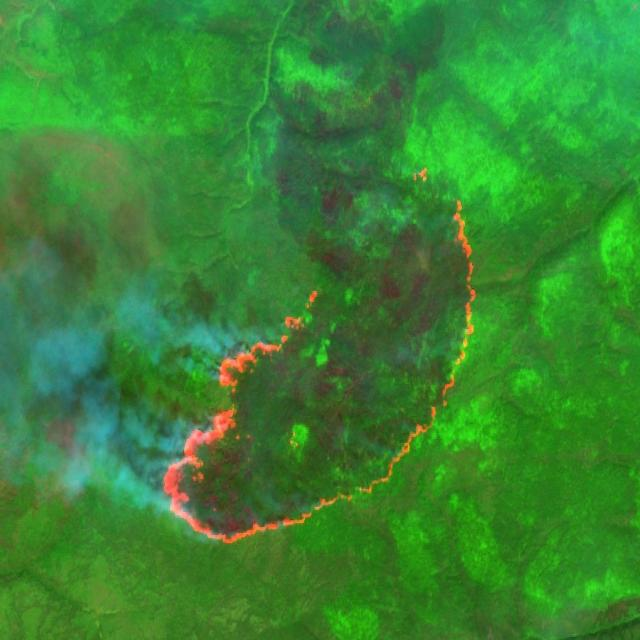fire: (158, 157, 481, 548)
